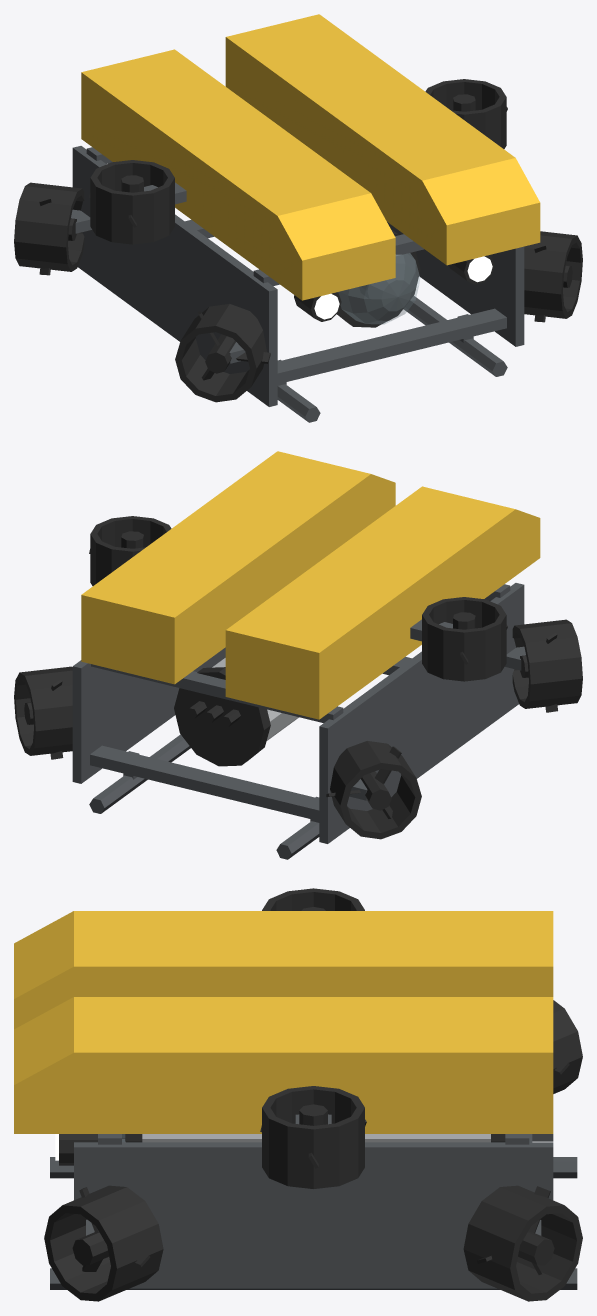
Rendered from GakkelROV.glb.
3 renders of one model, top to bottom at view 1: azimuth 30°, elevation 25°; view 2: azimuth 150°, elevation 25°; view 3: azimuth 270°, elevation 25°, orthographic. The views are drawn at different scales.
Parts seen in each view (by area): view 1: GakkelROV; view 2: GakkelROV; view 3: GakkelROV.
Boxes of the visible parts, x1,y1,x2,y2 form: GakkelROV: (14, 14, 582, 422); GakkelROV: (14, 451, 582, 859); GakkelROV: (14, 888, 582, 1301).
Bounding box in the file's own units: 0.4839 × 0.2303 × 0.4749.
